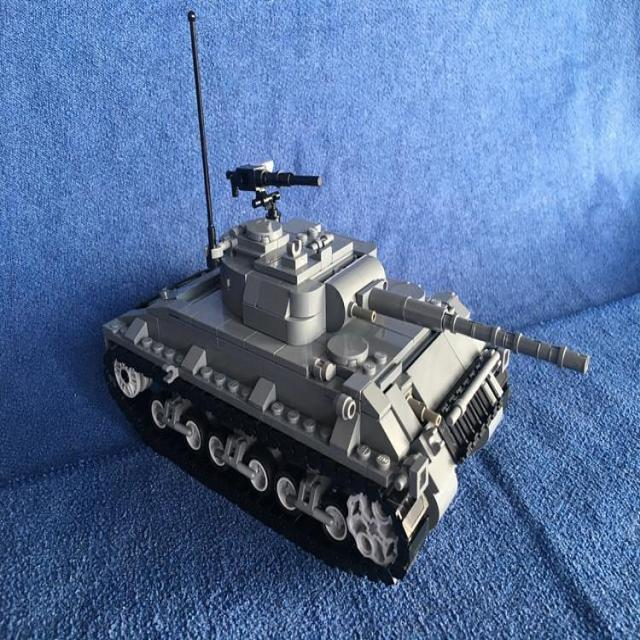Tanks: (93, 166, 595, 582)
